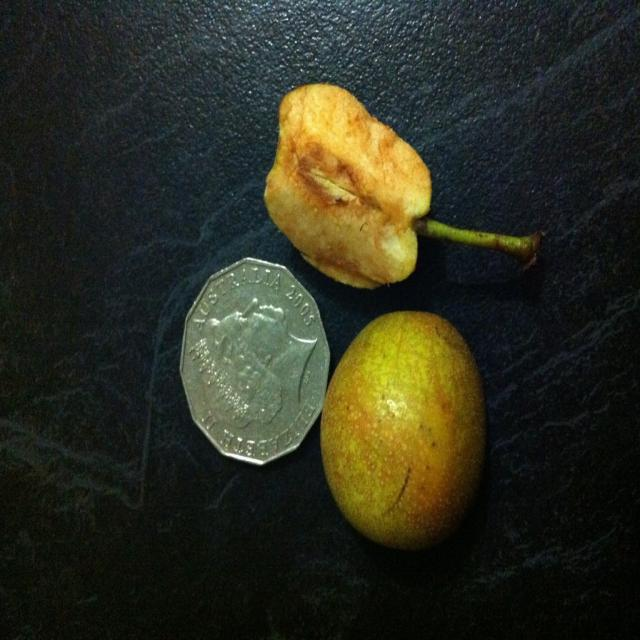Coin: (179, 254, 332, 470)
